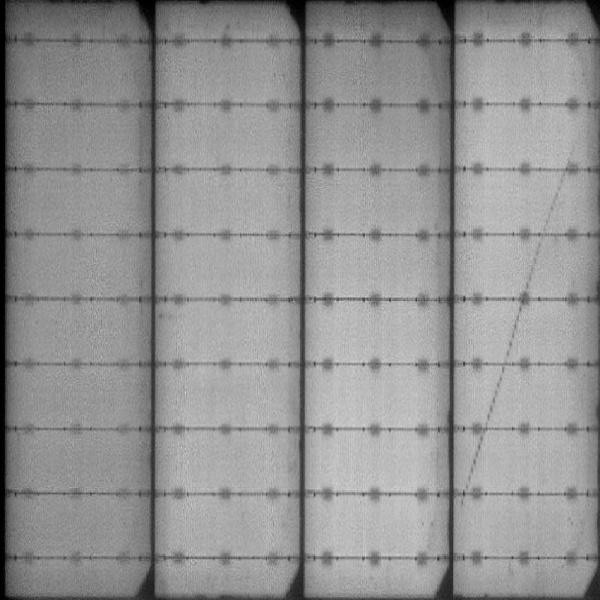scratch: (459, 434, 492, 498), (483, 368, 510, 427), (504, 300, 527, 363), (521, 237, 545, 297), (545, 170, 568, 228)
